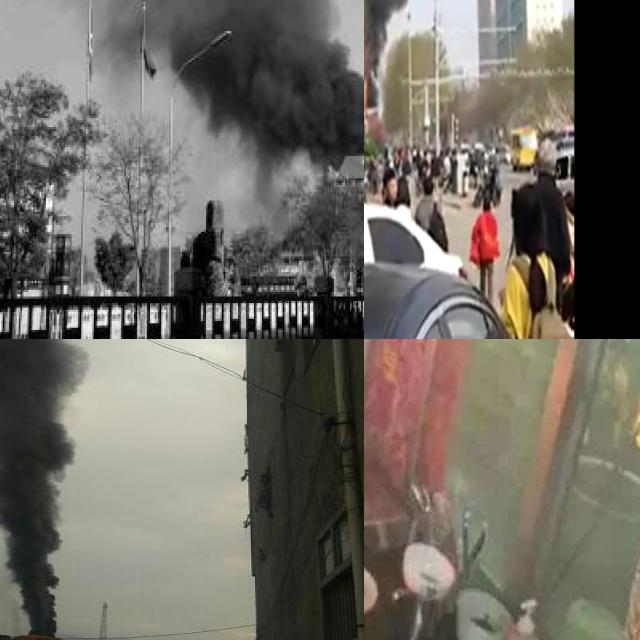fire: (629, 391, 640, 447), (364, 12, 368, 114)
smoke: (51, 0, 364, 160), (0, 339, 117, 638), (364, 0, 452, 107)
